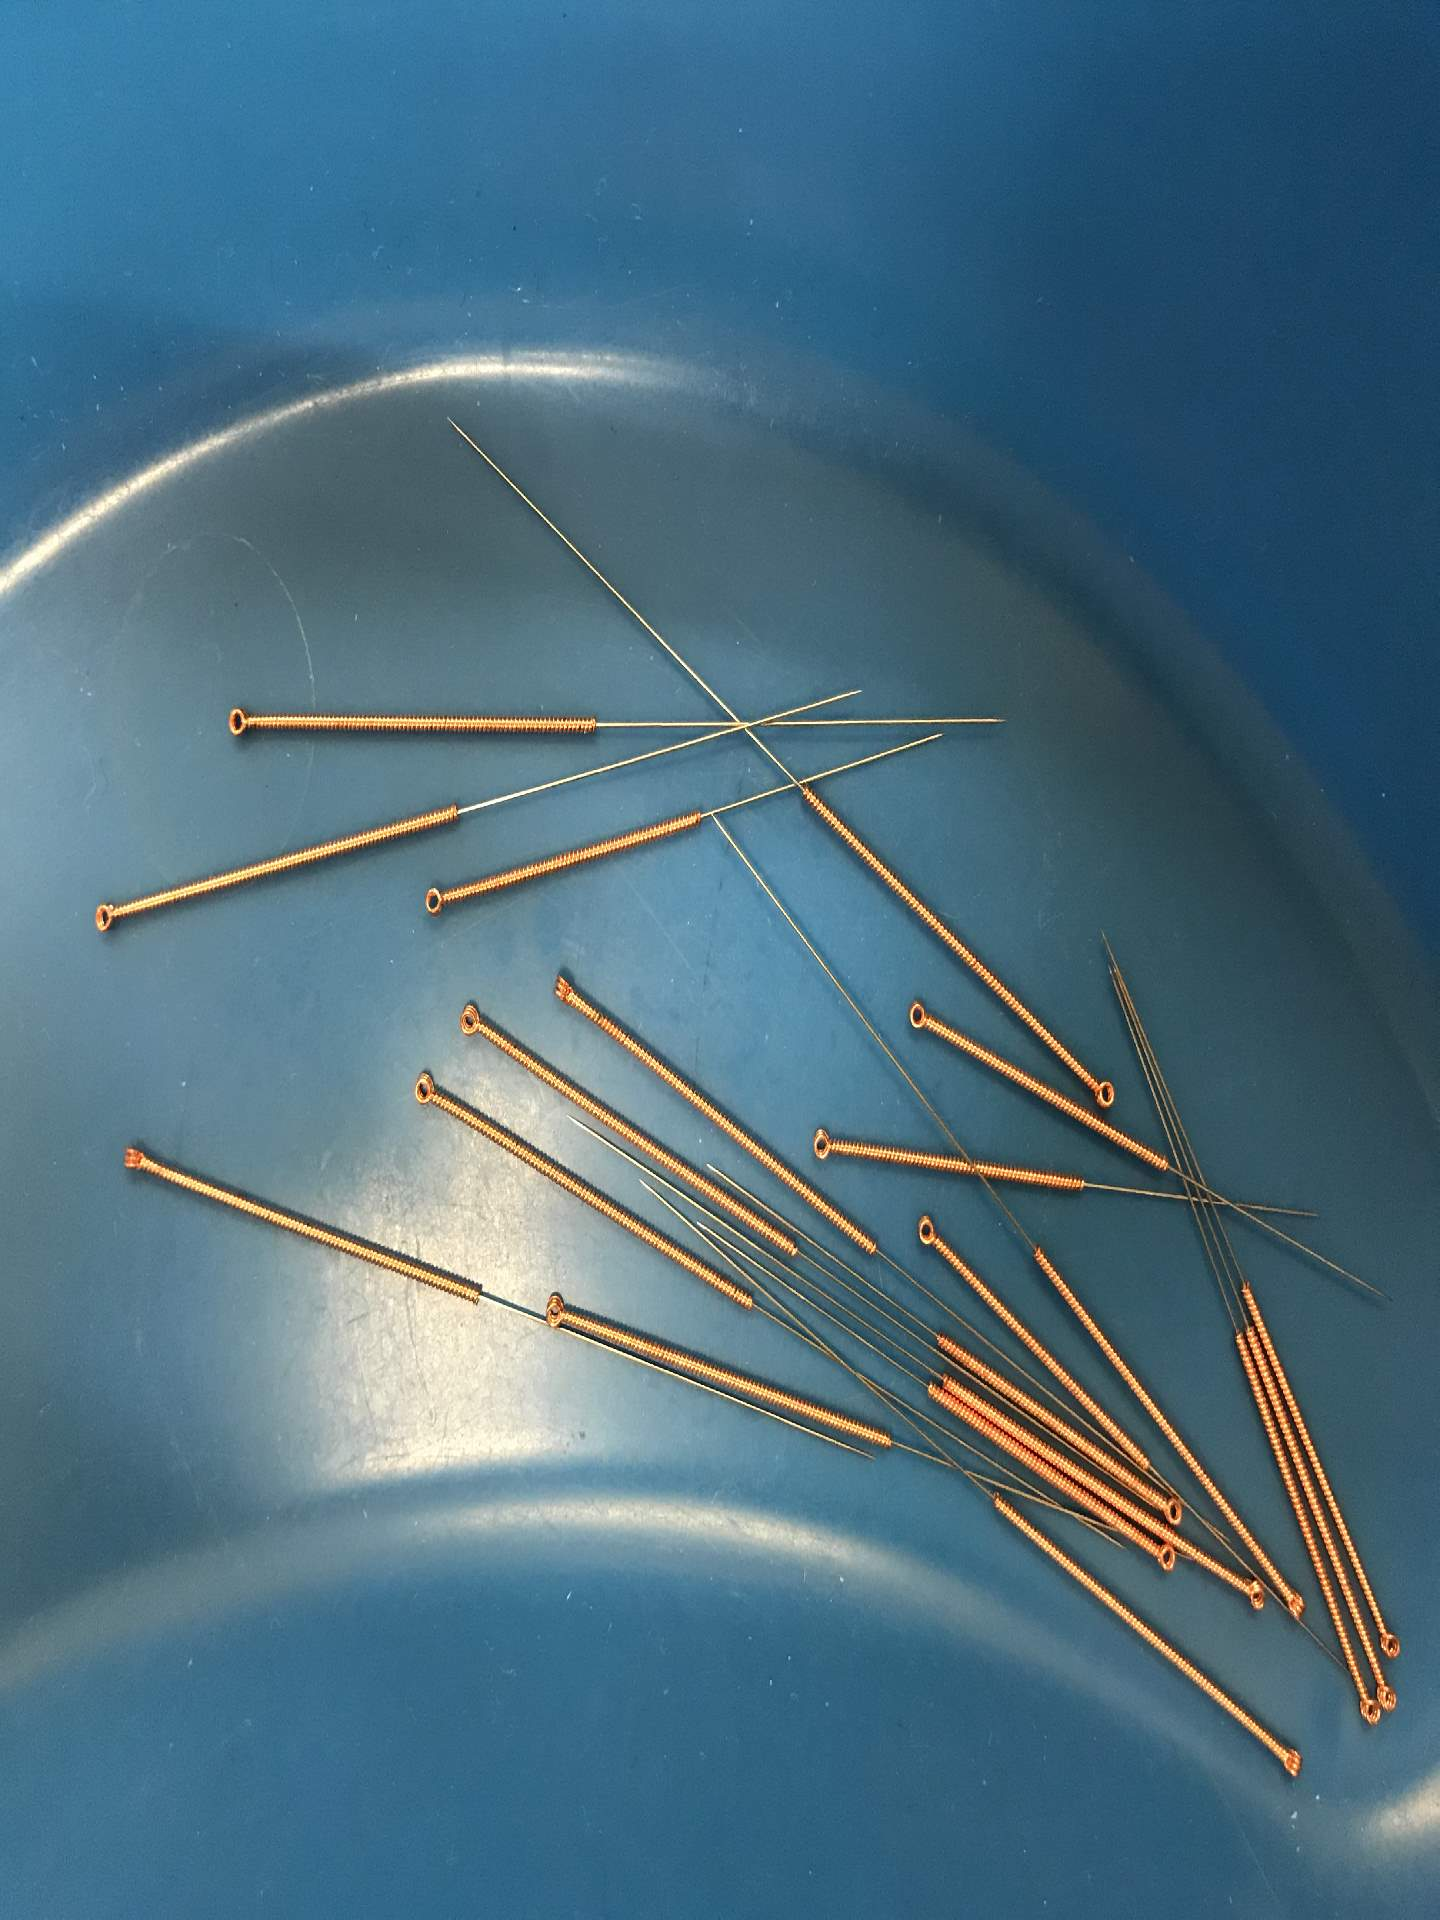needle: (213, 698, 265, 748), (82, 892, 129, 940), (448, 995, 495, 1043), (402, 1064, 445, 1116), (1269, 1739, 1314, 1785), (542, 965, 584, 1014), (800, 1120, 843, 1170), (110, 1135, 156, 1181), (898, 993, 941, 1042), (413, 878, 455, 924), (909, 1209, 947, 1256), (1231, 1575, 1272, 1618), (1085, 1070, 1122, 1114), (538, 1288, 573, 1335), (1280, 1578, 1311, 1624), (1352, 1686, 1383, 1733), (1373, 1621, 1405, 1665), (1144, 1539, 1178, 1578), (1159, 1488, 1189, 1528), (1376, 1677, 1404, 1714)
